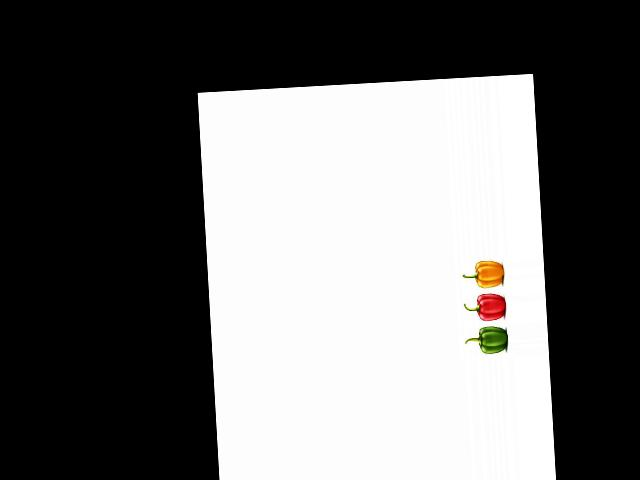bell_pepper: (464, 325, 511, 358)
